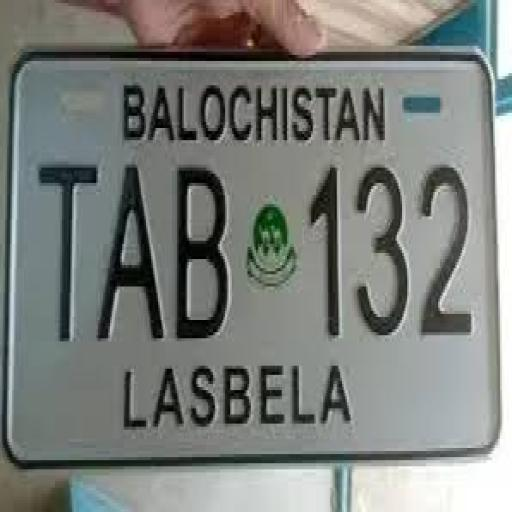1: (307, 171, 345, 346)
2: (416, 168, 473, 352)
3: (356, 152, 408, 352)
A: (98, 166, 164, 351)
B: (165, 156, 232, 350)
T: (32, 162, 94, 347)
